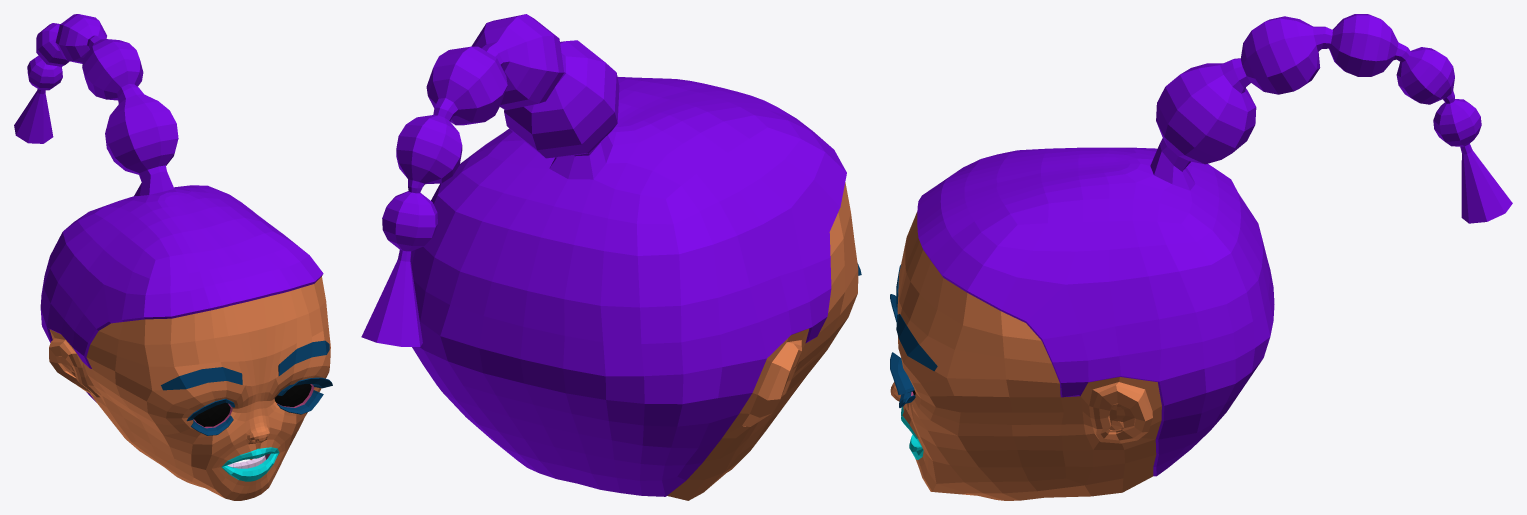
File: DemonBubble.fbx
3 renders of one model, left to right at view 1: azimuth 30°, elevation 25°; view 2: azimuth 150°, elevation 25°; view 3: azimuth 270°, elevation 25°, orthographic. The views are drawn at different scales.
Visible parts, largest first — view 1: BubbleFace; view 2: BubbleFace; view 3: BubbleFace.
Part boxes in pixels (<box>): BubbleFace: <box>14,14,332,500</box>; BubbleFace: <box>361,14,861,500</box>; BubbleFace: <box>890,14,1512,500</box>.
Size of the model in its own units: 0.2901 by 0.421 by 0.505.
